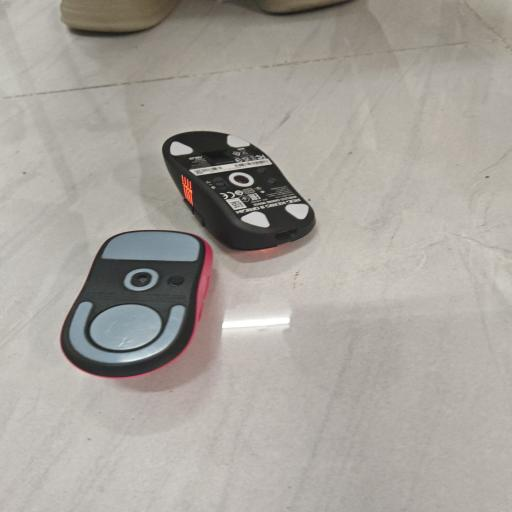mouse: (61, 230, 212, 378), (163, 131, 315, 250)
